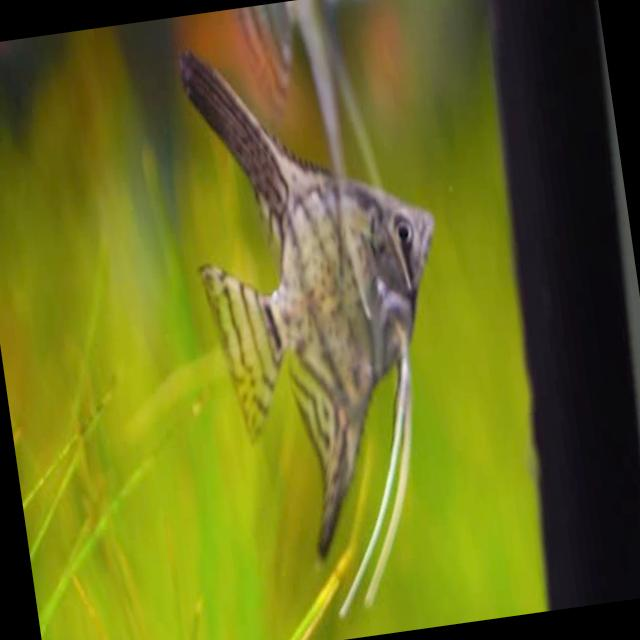AngelFish: (171, 19, 478, 570)
